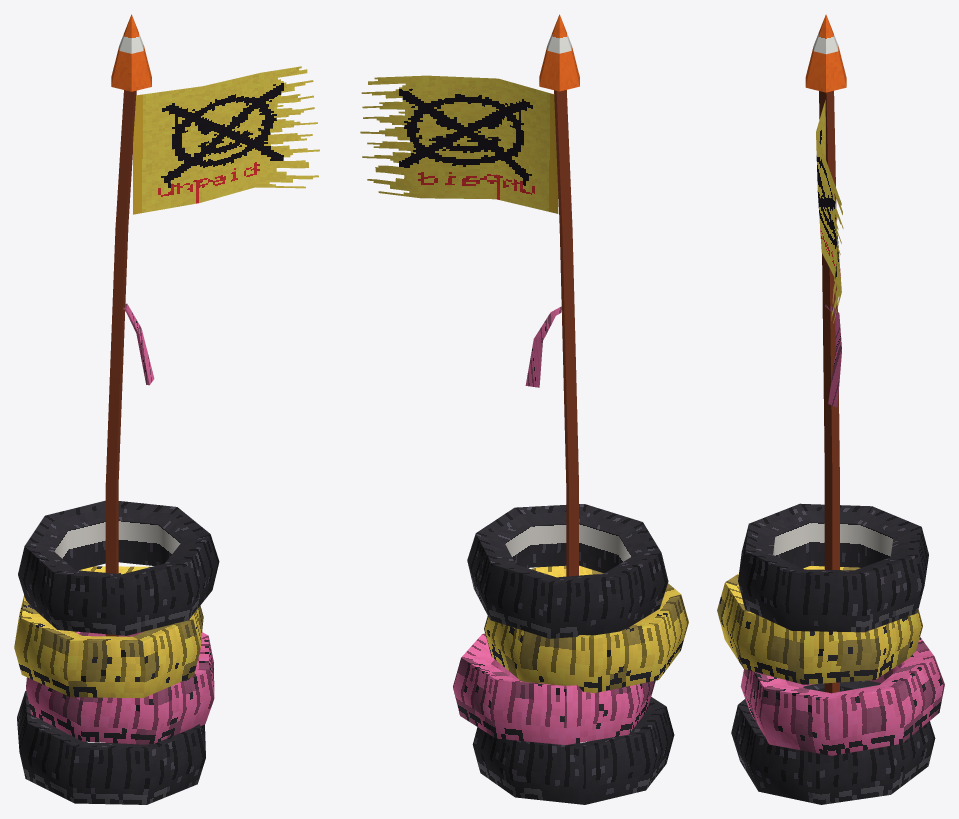
The model's file is s_tirestack.glb.
3 views of the same model, side by side, from view 1: azimuth 30°, elevation 25°; view 2: azimuth 150°, elevation 25°; view 3: azimuth 270°, elevation 25° (orthographic).
Visible parts, largest first — view 1: s_tirestack_mesh; view 2: s_tirestack_mesh; view 3: s_tirestack_mesh.
Boxes of the visible parts, left/top/right/bottom form: s_tirestack_mesh: left=14, top=14, right=319, bottom=804; s_tirestack_mesh: left=360, top=14, right=688, bottom=804; s_tirestack_mesh: left=717, top=14, right=944, bottom=804.
Size of what is drawn, in the model's own units: 1.14 by 2.66 by 0.7221.
Materials: 3 (3 with a texture image).
